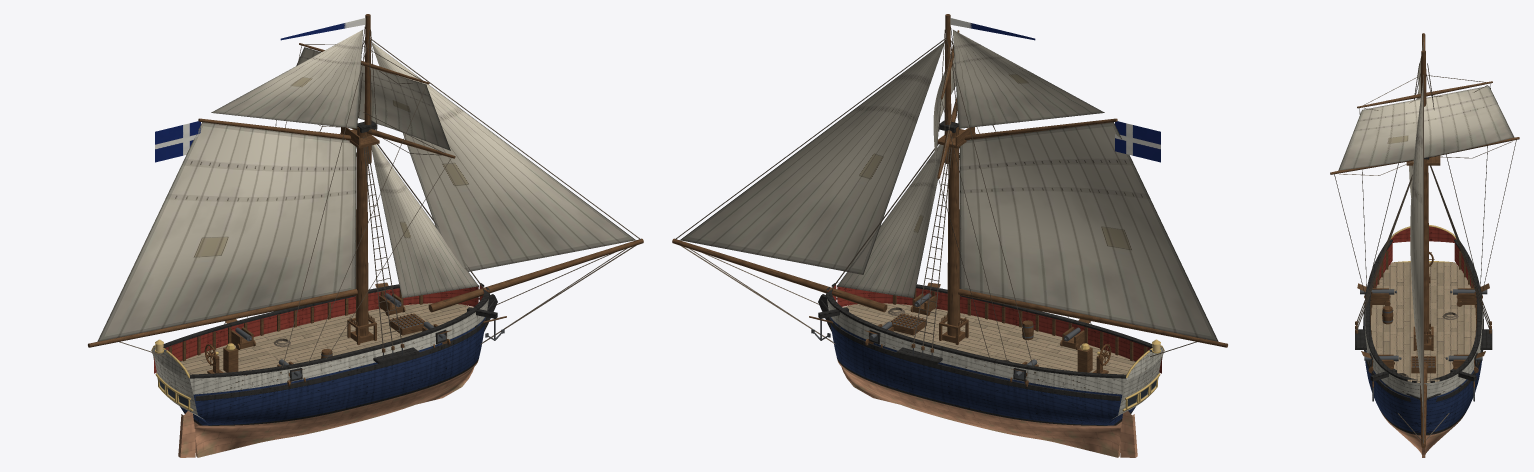
The model's file is revenue.glb.
3 renders of one model, left to right at view 1: azimuth 30°, elevation 25°; view 2: azimuth 150°, elevation 25°; view 3: azimuth 270°, elevation 25°, orthographic. The views are drawn at different scales.
Visible parts, largest first — view 1: SM_Revenue; view 2: SM_Revenue; view 3: SM_Revenue.
Part boxes in pixels (bbox=[...]): SM_Revenue: bbox=[88, 14, 643, 457]; SM_Revenue: bbox=[672, 14, 1227, 457]; SM_Revenue: bbox=[1330, 33, 1519, 457].
Size of the model in its own units: 29.9 by 18.2 by 8.45.
Materials: 15 (10 with a texture image).
